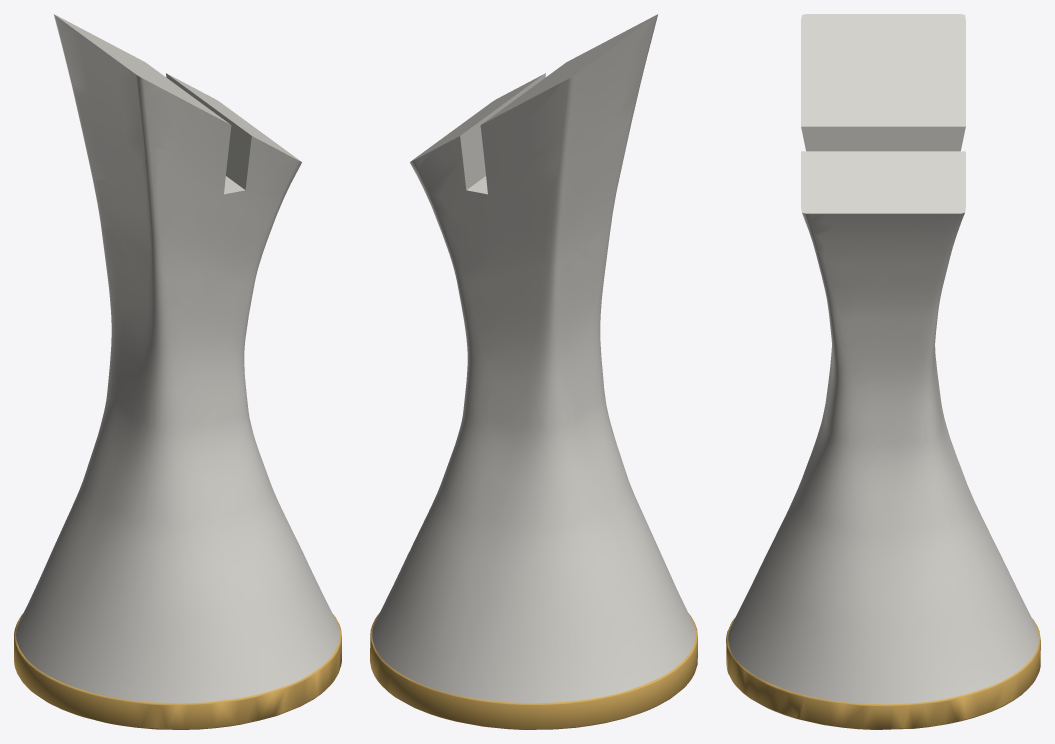
File: bishop-white.glb
3 renders of one model, left to right at view 1: azimuth 30°, elevation 25°; view 2: azimuth 150°, elevation 25°; view 3: azimuth 270°, elevation 25°, orthographic. The views are drawn at different scales.
Visible parts, largest first — view 1: 04_strelec_telo_0, 04_strelec_podstavec; view 2: 04_strelec_telo_0, 04_strelec_podstavec; view 3: 04_strelec_telo_0, 04_strelec_podstavec.
Part boxes in pixels (<box>): 04_strelec_telo_0: <box>16,14,339,703</box>; 04_strelec_podstavec: <box>14,614,341,729</box>; 04_strelec_telo_0: <box>372,14,695,703</box>; 04_strelec_podstavec: <box>370,613,697,729</box>; 04_strelec_telo_0: <box>728,14,1038,704</box>; 04_strelec_podstavec: <box>726,618,1040,729</box>.
Bounding box in the file's own units: 0.6897 × 1.48 × 0.6903.
